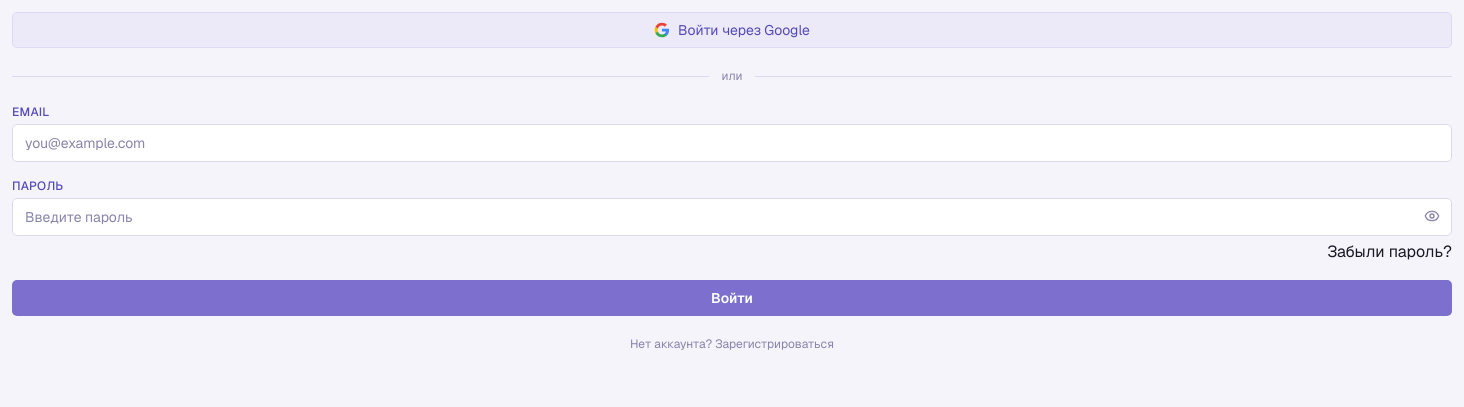
Test: LoginForm › shows error for invalid email format
Type "notanemail" into the field labelled "Email" at {"x": 732, "y": 143}, box [12,124,1452,162]
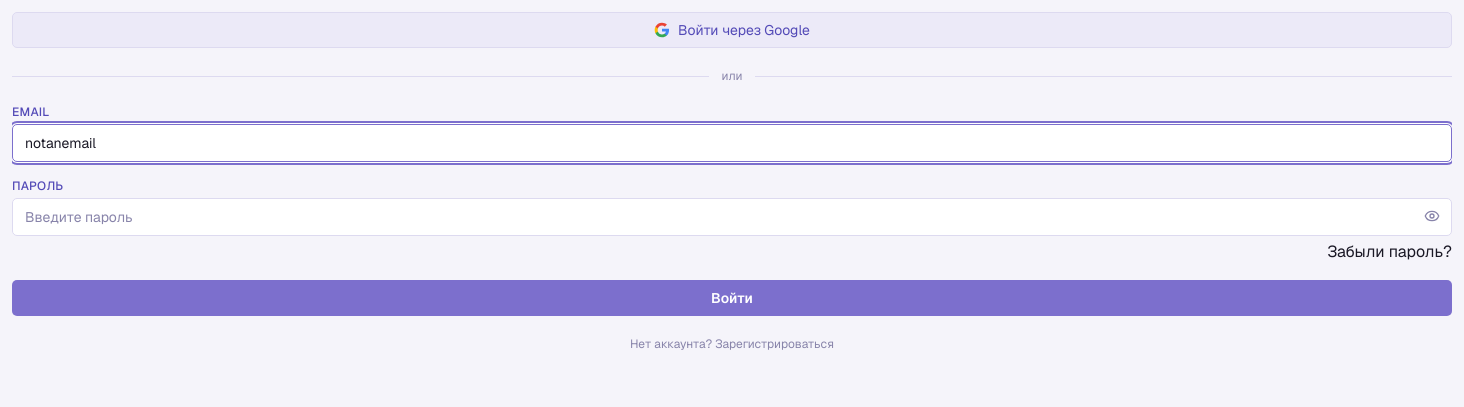
// Use fireEvent.submit to bypass native HTML email constraint validation in jsdom
Submit the form, box [12,104,1452,316]
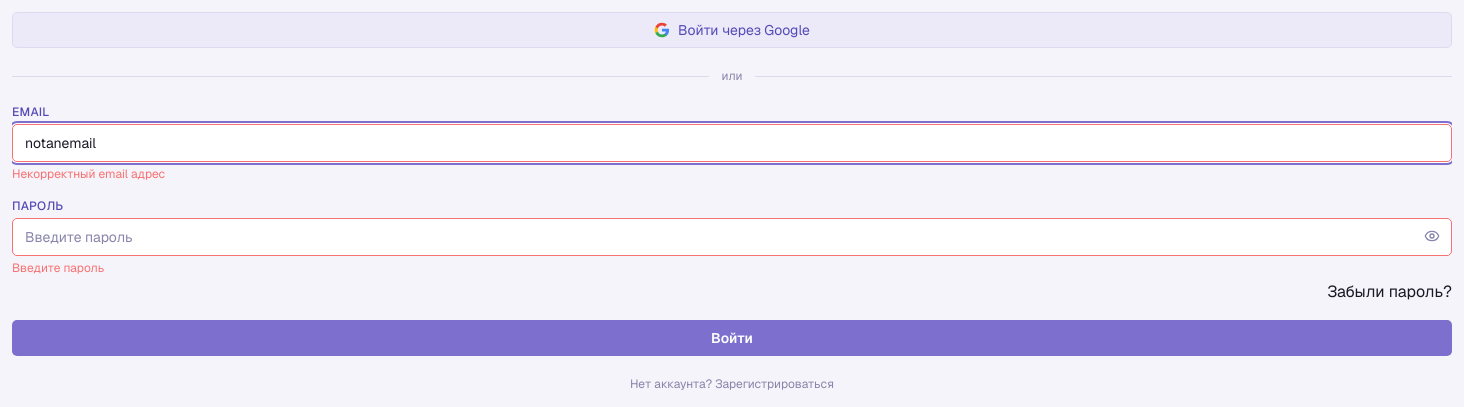
Check: the text "Некорректный email адрес" is shown, box [12,166,165,182]
